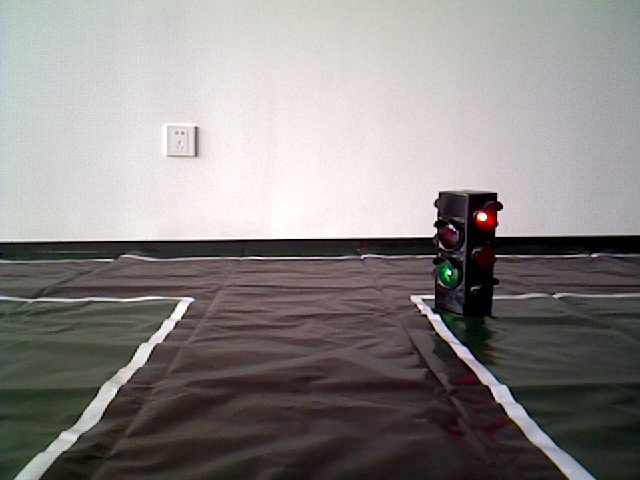red: (437, 191, 496, 310)
